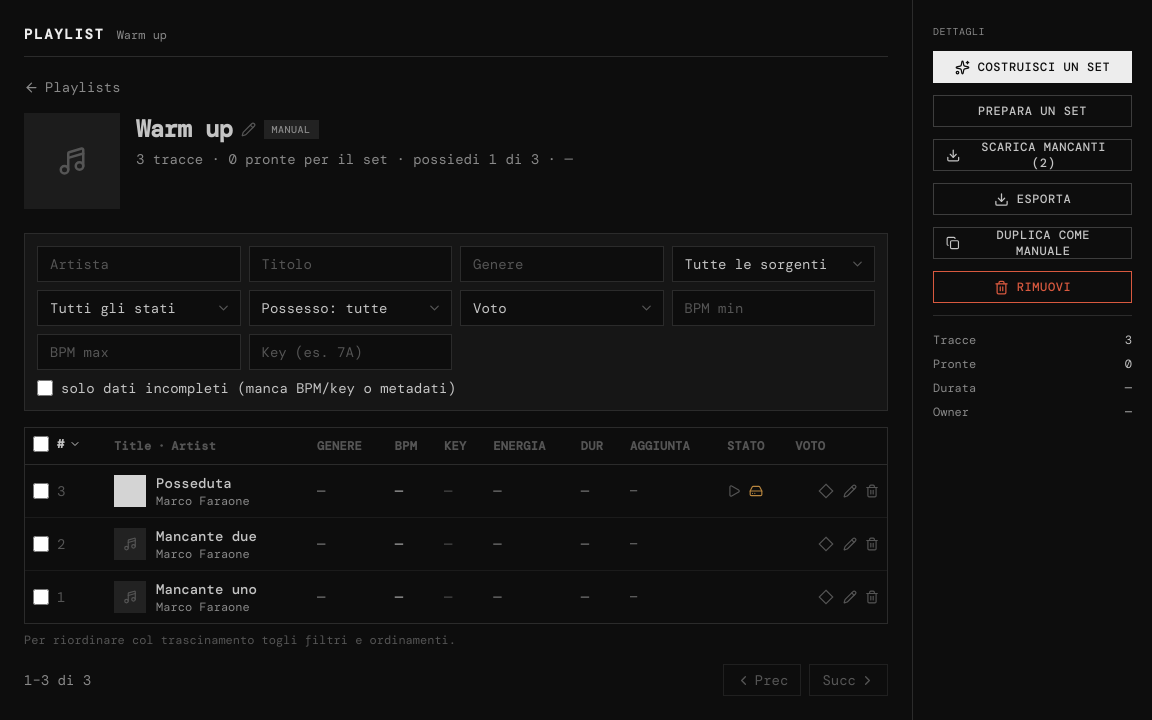
Test case: «Scarica» nella barra di selezione del dettaglio playlist › accoda solo le mancanti e riporta l'esito
Click the checkbox named "Seleziona tutte le tracce visibili" at (41, 444), box [33, 436, 49, 452]
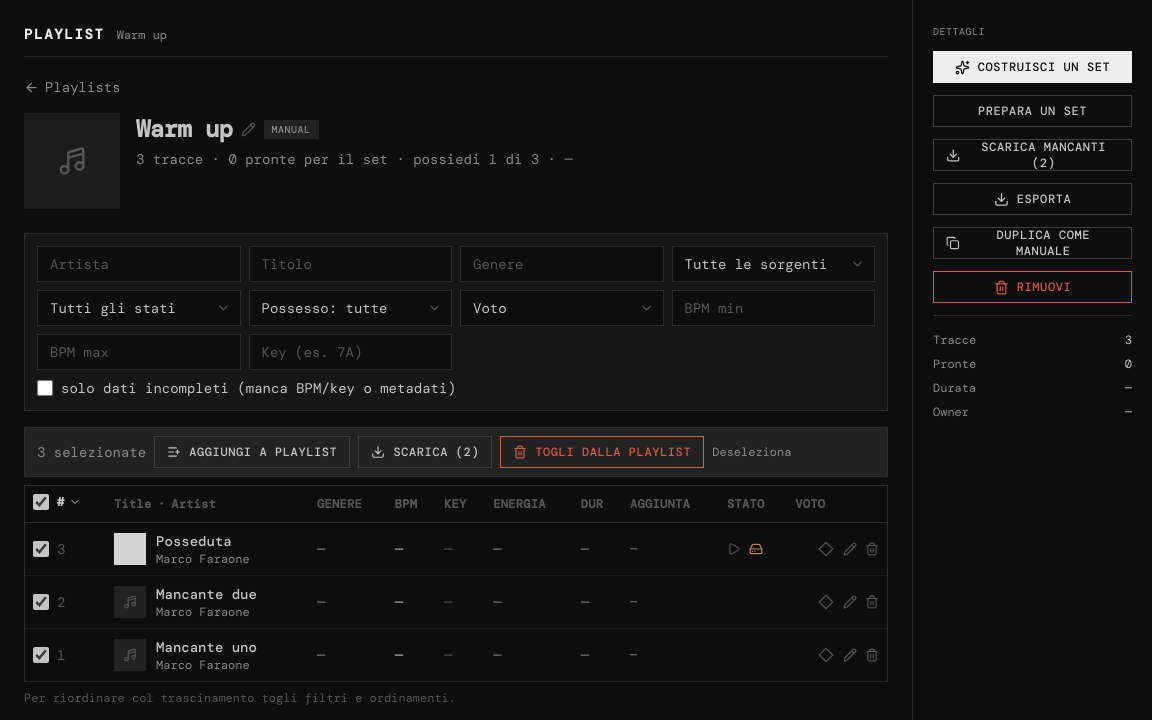
Click the button "Scarica (2)" at (425, 452), box [358, 436, 492, 468]
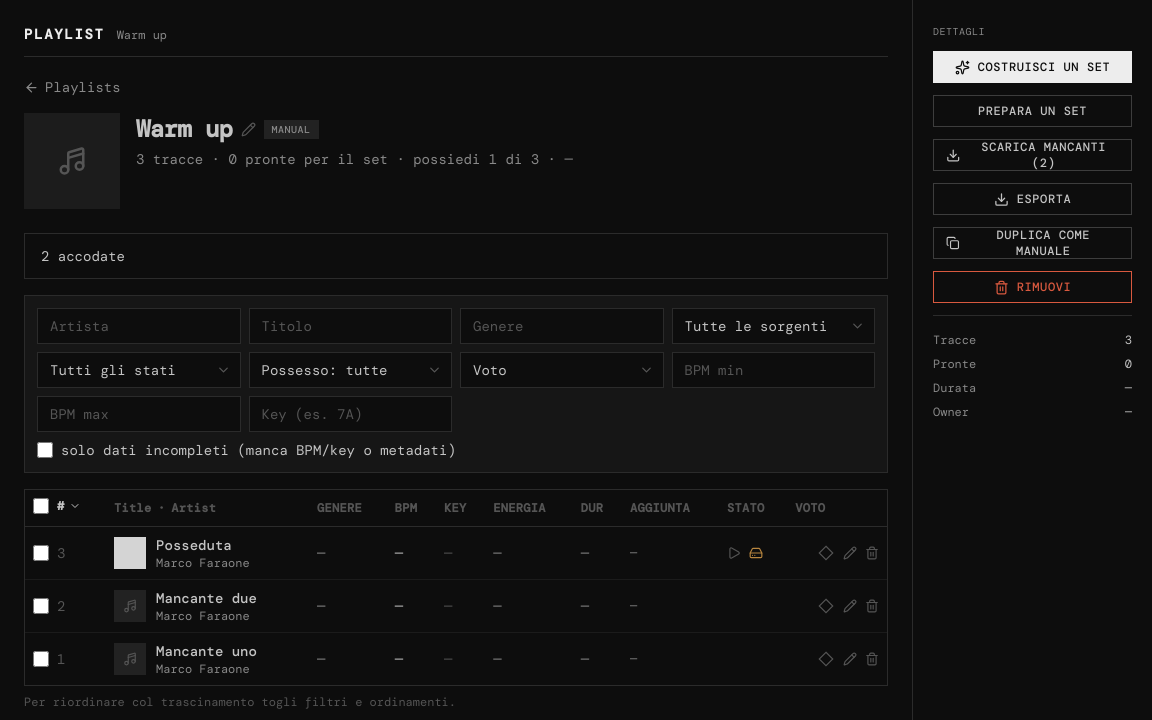
Now the text "2 accodate" is shown, box [24, 233, 888, 279]
Now the button "Scarica (2)" is gone
